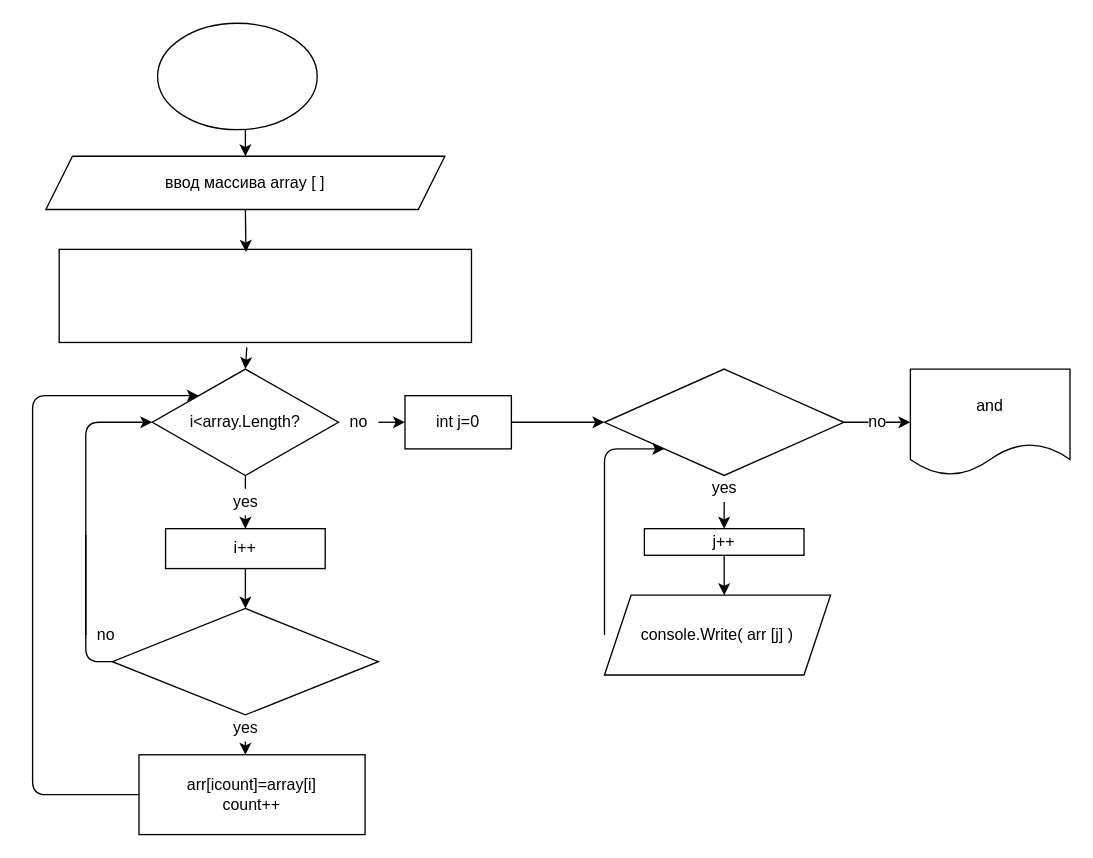
Some shapes in this 1093 by 858 pixel diagram are drawn without their labels. Each missing label, with the box of its shape:
array[i]<=size?: (111, 607, 378, 715)
cоздаем массив arr[array.Length] int i =0 int size=3: (58, 248, 471, 342)
j<arr.Length?: (603, 368, 844, 475)
start: (156, 22, 317, 130)
